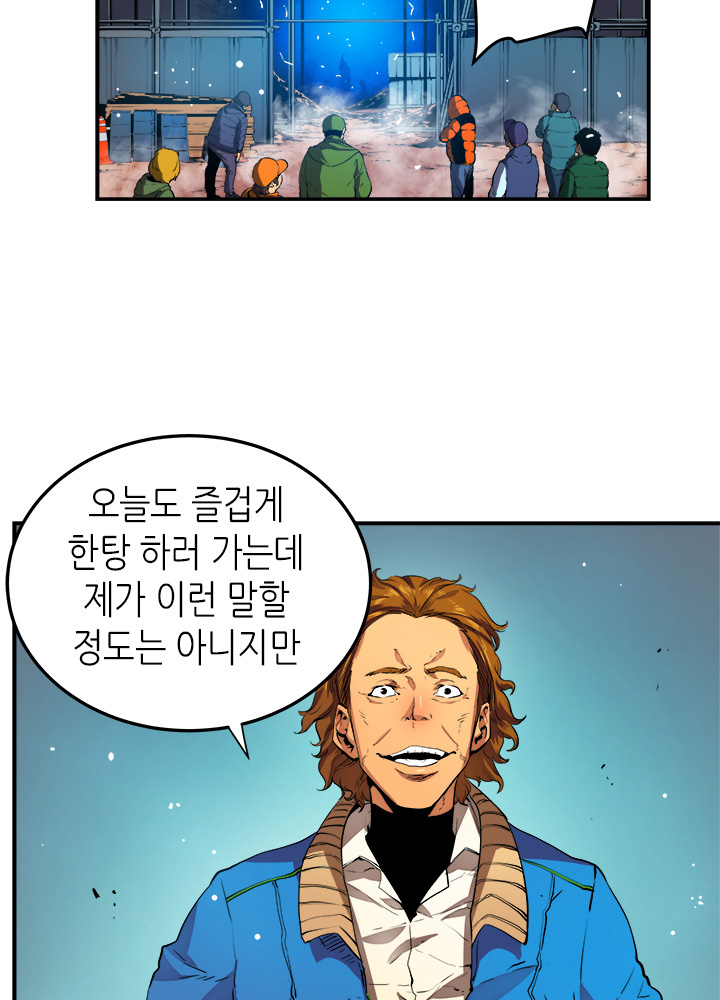dialog box: (1, 399, 402, 775), (460, 1, 610, 80)
text: (47, 453, 323, 687)
